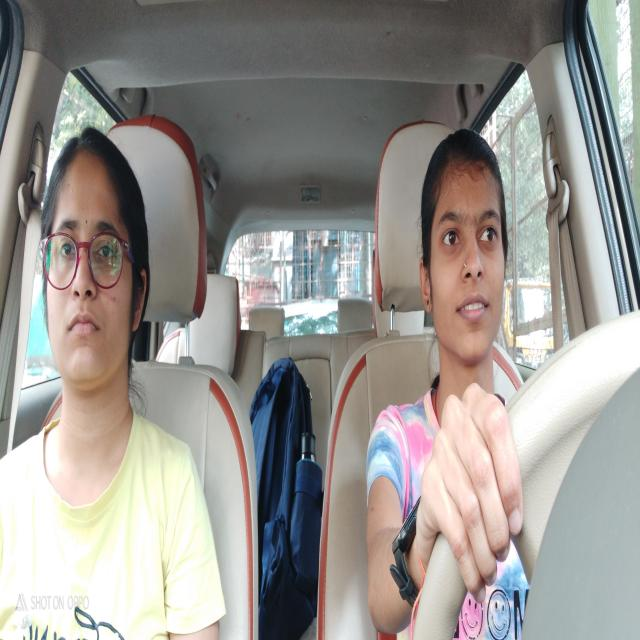person: (34, 119, 156, 428), (417, 123, 516, 380)
